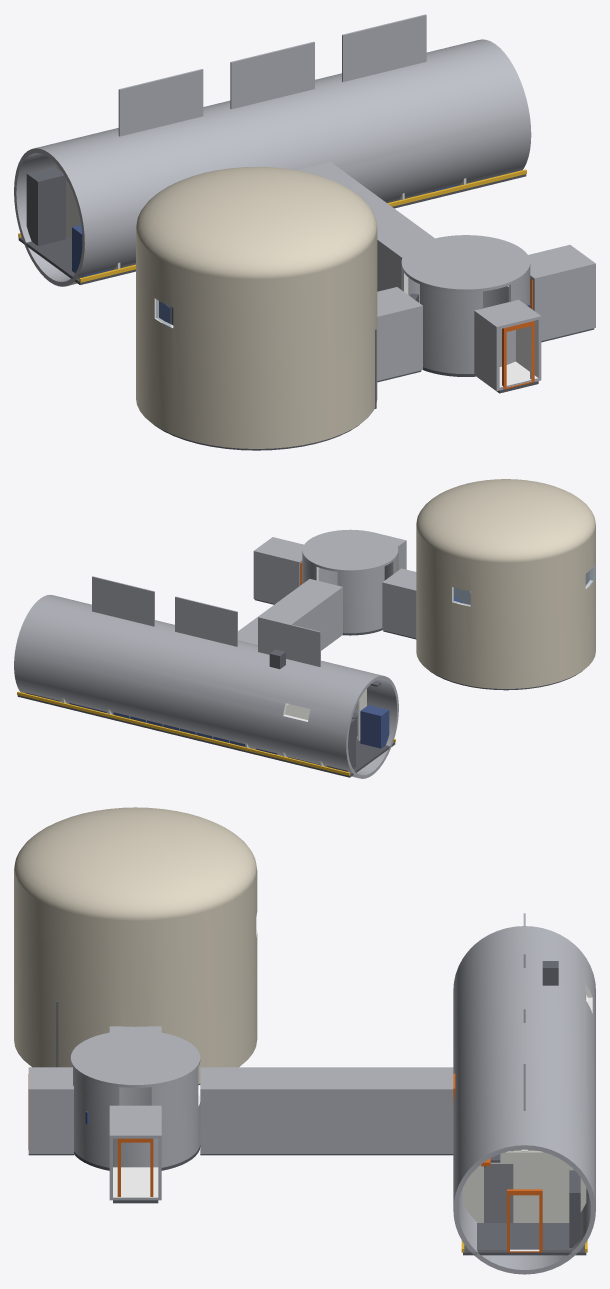
Rendered from base_camp.glb.
The picture shows the model from 3 angles, top to bottom: view 1: azimuth 30°, elevation 25°; view 2: azimuth 150°, elevation 25°; view 3: azimuth 270°, elevation 25°; orthographic projection. The views are drawn at different scales.
Visible parts, largest first — view 1: B_Engineering2, C_Habitation2, C_Dome2, D_Hub2, D_Ceiling2, T_A_D2, D_RoverPort2, B_Radiator_02, B_Radiator_12, B_Radiator_22, T_D_B2, T_D_C2 (+5 smaller); view 2: B_Engineering2, C_Habitation2, C_Dome2, T_D_B2, D_Hub2, D_Ceiling2, T_A_D2, B_Radiator_22, B_Radiator_12, B_Radiator_02, T_D_C2, B_FloorEdgeN2 (+2 smaller); view 3: B_Engineering2, C_Habitation2, T_D_B2, C_Dome2, D_Hub2, D_Ceiling2, B_Partition_12, D_RoverPort2, T_A_D2, B1_FloorGrille2, B_Floor2, B_Hatch_EVA2 (+2 smaller).
Part boxes in pixels (x1,y1,x2,y2): B_Engineering2: (14,39,531,286); C_Habitation2: (136,231,377,448); C_Dome2: (136,166,377,279); D_Hub2: (401,266,530,374); D_Ceiling2: (401,235,530,292); T_A_D2: (528,245,595,340); D_RoverPort2: (474,299,541,390); B_Radiator_02: (118,69,203,136); B_Radiator_12: (230,41,314,109); B_Radiator_22: (342,14,426,81); T_D_B2: (296,161,434,291); T_D_C2: (377,287,422,380); B_Engineering2: (14,594,398,778); C_Habitation2: (416,526,595,688); C_Dome2: (416,479,595,562); T_D_B2: (238,579,342,650); D_Hub2: (302,553,398,633); D_Ceiling2: (302,529,398,572); T_A_D2: (253,537,303,603); B_Radiator_22: (92,576,154,626); B_Radiator_12: (175,596,237,646); B_Radiator_02: (258,617,320,666); T_D_C2: (382,568,416,638); B_FloorEdgeN2: (17,691,350,775); B_Engineering2: (453,926,595,1274); C_Habitation2: (14,870,257,1083); T_D_B2: (200,1067,453,1153); C_Dome2: (14,807,256,920); D_Hub2: (73,1068,200,1167); D_Ceiling2: (70,1030,200,1087); B_Partition_12: (463,1151,586,1222); D_RoverPort2: (28,1067,73,1153); T_A_D2: (109,1105,161,1200); B1_FloorGrille2: (477,1223,572,1250); B_Floor2: (463,1150,586,1255); B_Hatch_EVA2: (507,1189,542,1252).
Bounding box in the file's own units: 19.26 × 7.75 × 17.95.
